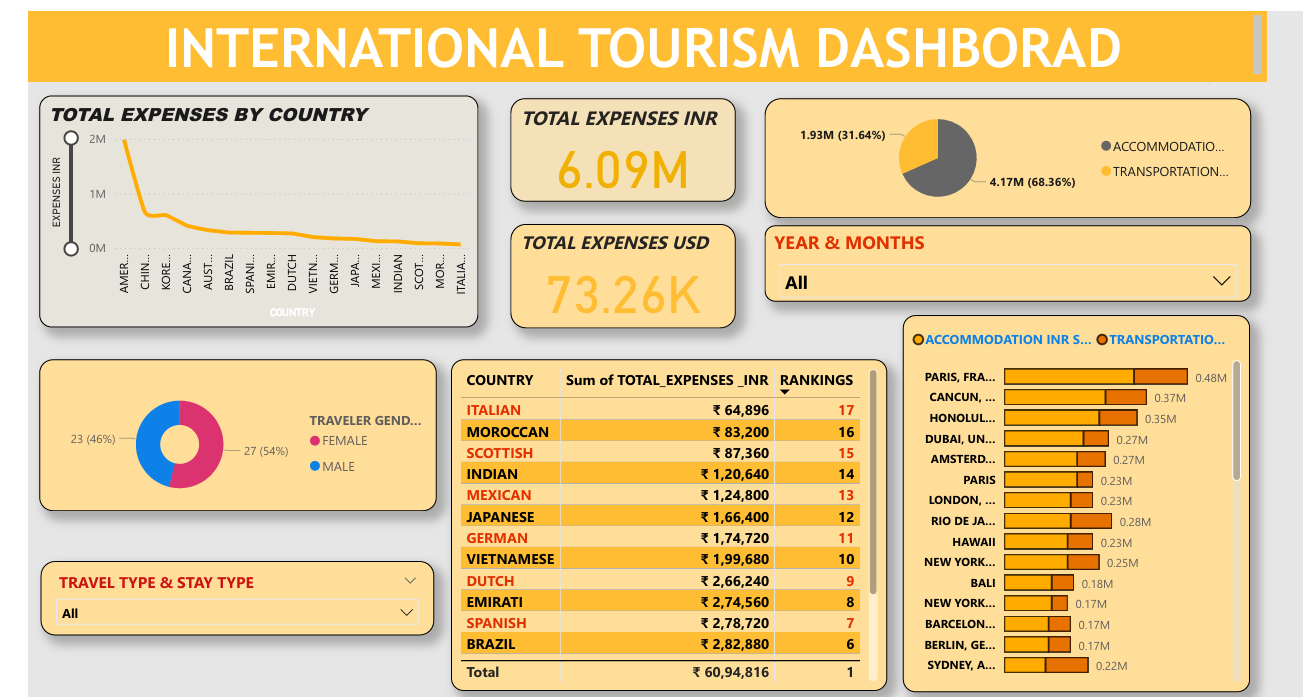

The page's visual inventory and layout, read from the dashboard file:
{"tool":"powerbi","page":{"name":"PROJECT","canvas":[1280,720],"ordinal":0},"visuals":[{"type":"textbox","box":[0,0,1279.6,72.7],"z":0},{"type":"lineChart","title":"TOTAL EXPENSES BY COUNTRY","fields":{"Category":["Travel details dataset.COUNTRY"],"Y":["Travel details dataset.EXPENSES"]},"box":[11.4,87.1,454.3,240],"z":1000},{"type":"pieChart","fields":{"Y":["Travel details dataset.ACCOMMODATION-SUM","Travel details dataset.TRANSPORTATION-SUM"]},"box":[762,90.2,503.1,123.6],"z":2000},{"type":"donutChart","title":" ","fields":{"Category":["Travel details dataset.TRAVELER GENDER"],"Y":["CountNonNull(Travel details dataset.COUNTRY)"]},"box":[11.4,360,411.4,157.1],"z":3000},{"type":"barChart","fields":{"Category":["Travel details dataset.DESTINATION"],"Y":["Travel details dataset.ACCOMMODATION-SUM","Travel details dataset.TRANSPORTATION-SUM"]},"box":[904.5,314.1,359.2,389.7],"z":4000},{"type":"slicer","title":"YEAR & MONTHS","fields":{"Values":["TOURIST_END_DATE.year","TOURIST_END_DATE.month"]},"box":[761.4,221.4,502.9,78.6],"z":5000},{"type":"card","title":"TOTAL EXPENSES INR","fields":{"Values":["Travel details dataset.EXPENSES"]},"box":[498.6,90,232.9,107.1],"z":6000},{"type":"card","title":"TOTAL EXPENSES USD","fields":{"Values":["MEASURE.TOTAL USD EXPENSES"]},"box":[498.8,219.6,232.7,107.6],"z":7000},{"type":"slicer","fields":{"Values":["Travel details dataset.TRANSPORTATION TYPE","Travel details dataset.ACCOMMODATION TYPE"]},"box":[13.1,568.6,407.2,77.1],"z":8000},{"type":"tableEx","fields":{"Values":["Travel details dataset.COUNTRY","Sum(Travel details dataset.TOTAL_EXPENSES _INR)","MEASURE.RANKINGS"]},"box":[437.7,360.6,450.8,343.2],"z":9000},{"type":"image","box":[1120.8,0,159.7,90.3],"z":10000},{"type":"image","box":[34.3,0,97.1,72.9],"z":11000}]}

Visuals, with their boxes in screenshot pixels (x1, y1, x2, y2):
textbox: select_region(37, 24, 1256, 93)
"TOTAL EXPENSES BY COUNTRY" lineChart: select_region(48, 107, 481, 335)
pieChart - Travel details dataset.ACCOMMODATION-SUM x Travel details dataset.TRANSPORTATION-SUM: select_region(763, 110, 1243, 227)
" " donutChart: select_region(48, 367, 440, 516)
barChart - Travel details dataset.DESTINATION x Travel details dataset.ACCOMMODATION-SUM: select_region(899, 323, 1241, 694)
"YEAR & MONTHS" slicer: select_region(763, 235, 1242, 310)
"TOTAL EXPENSES INR" card: select_region(512, 109, 734, 212)
"TOTAL EXPENSES USD" card: select_region(513, 233, 734, 335)
slicer - Travel details dataset.TRANSPORTATION TYPE x Travel details dataset.ACCOMMODATION TYPE: select_region(50, 565, 438, 639)
tableEx - Travel details dataset.COUNTRY x Sum(Travel details dataset.TOTAL_EXPENSES _INR): select_region(454, 367, 884, 694)
image: select_region(1105, 24, 1257, 110)
image: select_region(70, 24, 163, 93)
